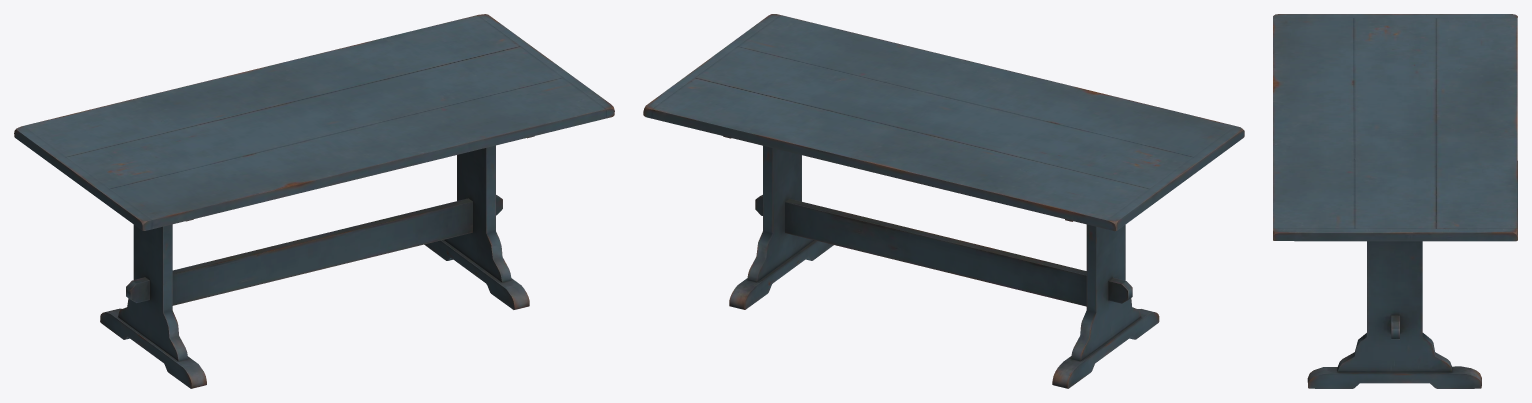
The model's file is painted_wooden_table.glb.
3 renders of one model, left to right at view 1: azimuth 30°, elevation 25°; view 2: azimuth 150°, elevation 25°; view 3: azimuth 270°, elevation 25°, orthographic. The views are drawn at different scales.
Visible parts, largest first — view 1: painted_wooden_table; view 2: painted_wooden_table; view 3: painted_wooden_table.
Boxes of the visible parts, left/top/right/bottom form: painted_wooden_table: left=14, top=14, right=614, bottom=388; painted_wooden_table: left=643, top=14, right=1244, bottom=388; painted_wooden_table: left=1273, top=14, right=1517, bottom=388.
Bounding box in the file's own units: 2.4 × 0.9586 × 1.14.
1 material, 1 textured.
